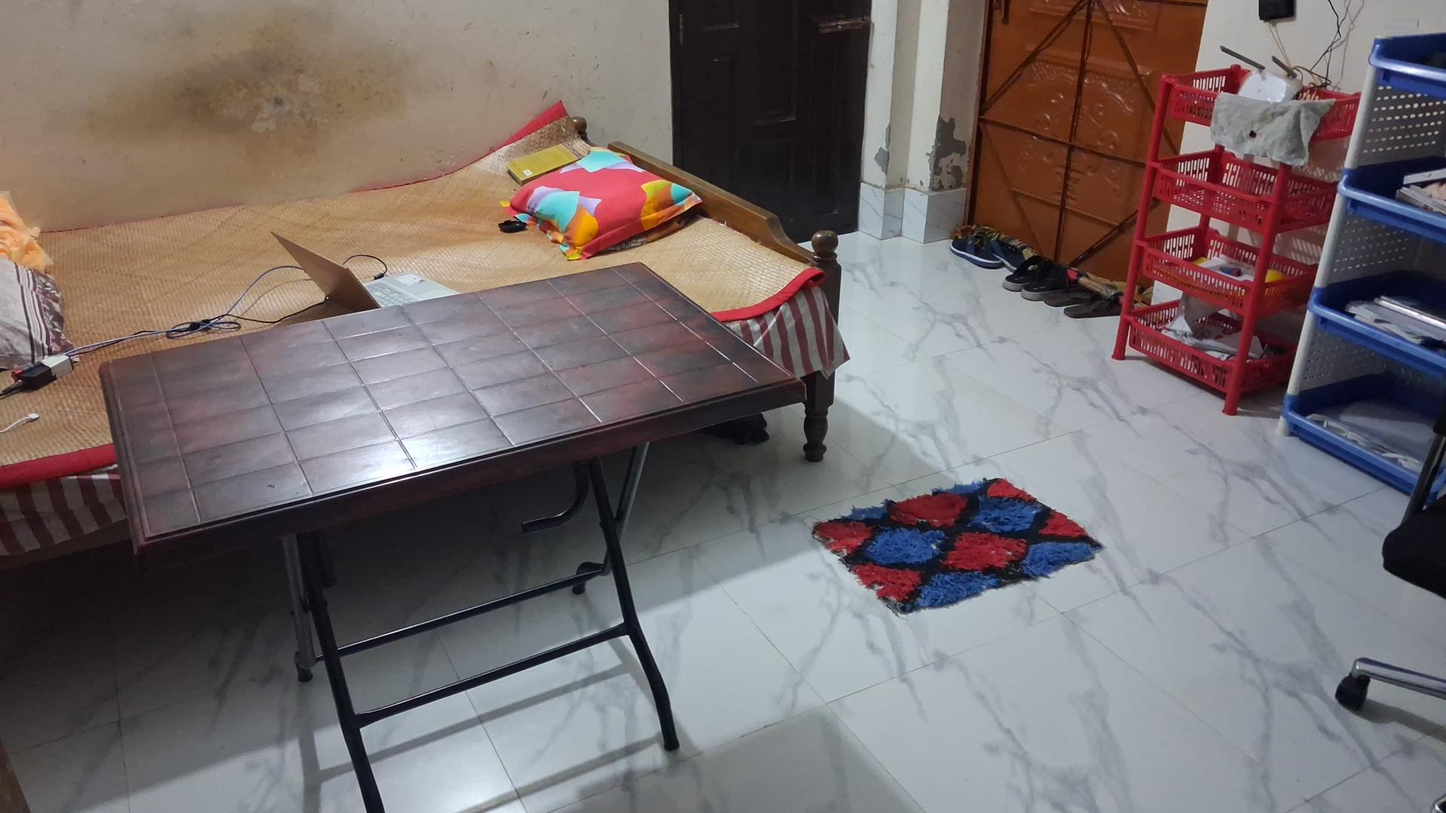Book: (495, 145, 583, 181)
Door: (972, 7, 1179, 269), (672, 2, 879, 248)
Floor Mat: (805, 477, 1115, 631)
Footwear: (938, 225, 1025, 271), (993, 256, 1081, 297), (1035, 287, 1127, 317)
Pillow: (503, 147, 703, 262)
Rack: (1107, 33, 1361, 434), (1291, 11, 1446, 484)
Table: (105, 261, 800, 813)
